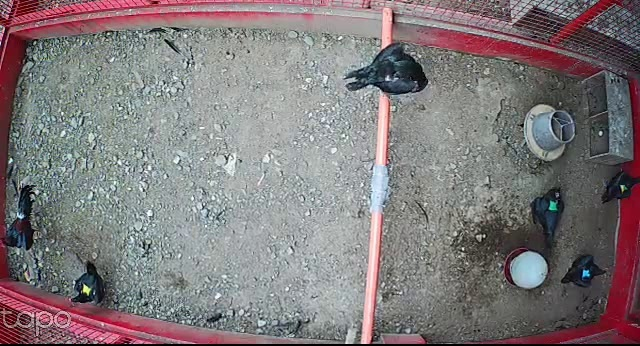Chicken: (338, 39, 436, 99), (527, 185, 569, 251), (560, 248, 609, 290), (598, 167, 640, 210), (70, 260, 107, 306)
Drinker: (501, 247, 551, 289)
Rooster: (0, 174, 48, 265)
Saddle_Color_Blue: (583, 271, 590, 278)
Saddle_Color_Yellow: (81, 285, 93, 296)
Saddle_Color_YellowGreen: (620, 183, 628, 193)
